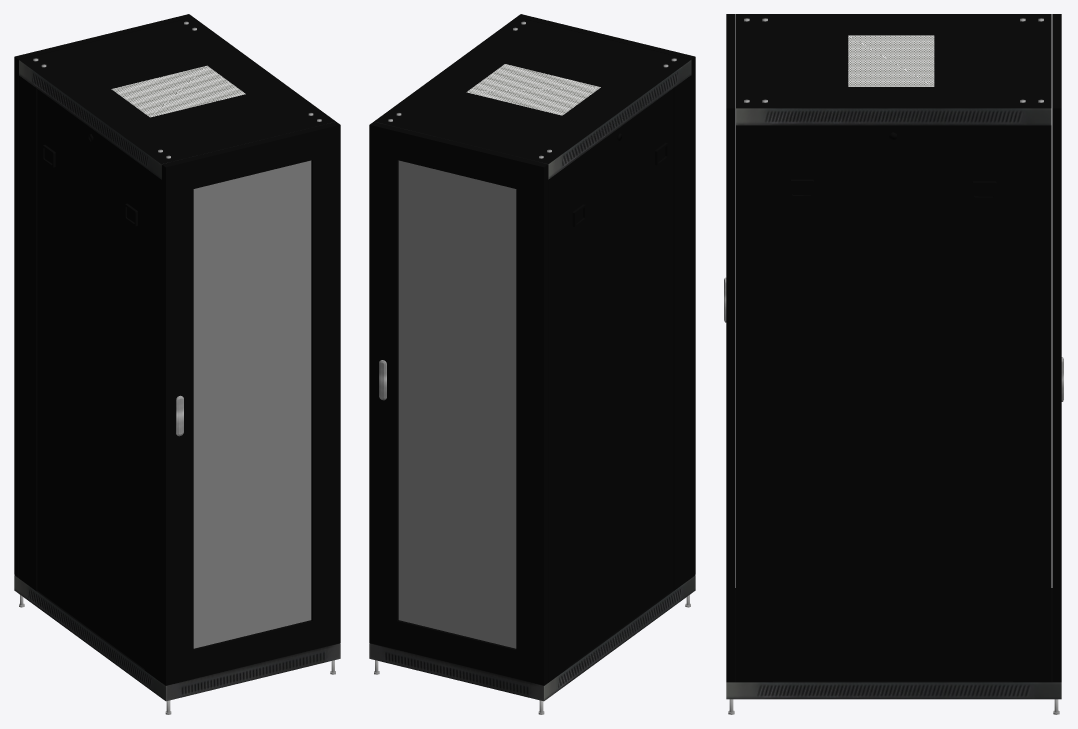
Rendered from RKAB36.fbx.
The picture shows the model from 3 angles, left to right: view 1: azimuth 30°, elevation 25°; view 2: azimuth 150°, elevation 25°; view 3: azimuth 270°, elevation 25°; orthographic projection. The views are drawn at different scales.
Parts seen in each view (by area): view 1: frontdoor, RKAB36, Box142, backdoor; view 2: backdoor, RKAB36, Box142, frontdoor; view 3: RKAB36, Box142, frontdoor, backdoor.
Boxes of the visible parts, bbox=[...] form: frontdoor: bbox=[161, 122, 340, 685]; RKAB36: bbox=[37, 89, 144, 668]; Box142: bbox=[14, 17, 340, 714]; backdoor: bbox=[14, 14, 192, 577]; backdoor: bbox=[369, 122, 548, 685]; RKAB36: bbox=[566, 88, 673, 668]; Box142: bbox=[369, 17, 695, 714]; frontdoor: bbox=[517, 14, 695, 577]; RKAB36: bbox=[773, 125, 1012, 681]; Box142: bbox=[726, 14, 1061, 714]; frontdoor: bbox=[724, 14, 735, 681]; backdoor: bbox=[1052, 14, 1063, 681].
Size of the model in its own units: 610 by 1805 by 913.
Materials: 6 (4 with a texture image).
